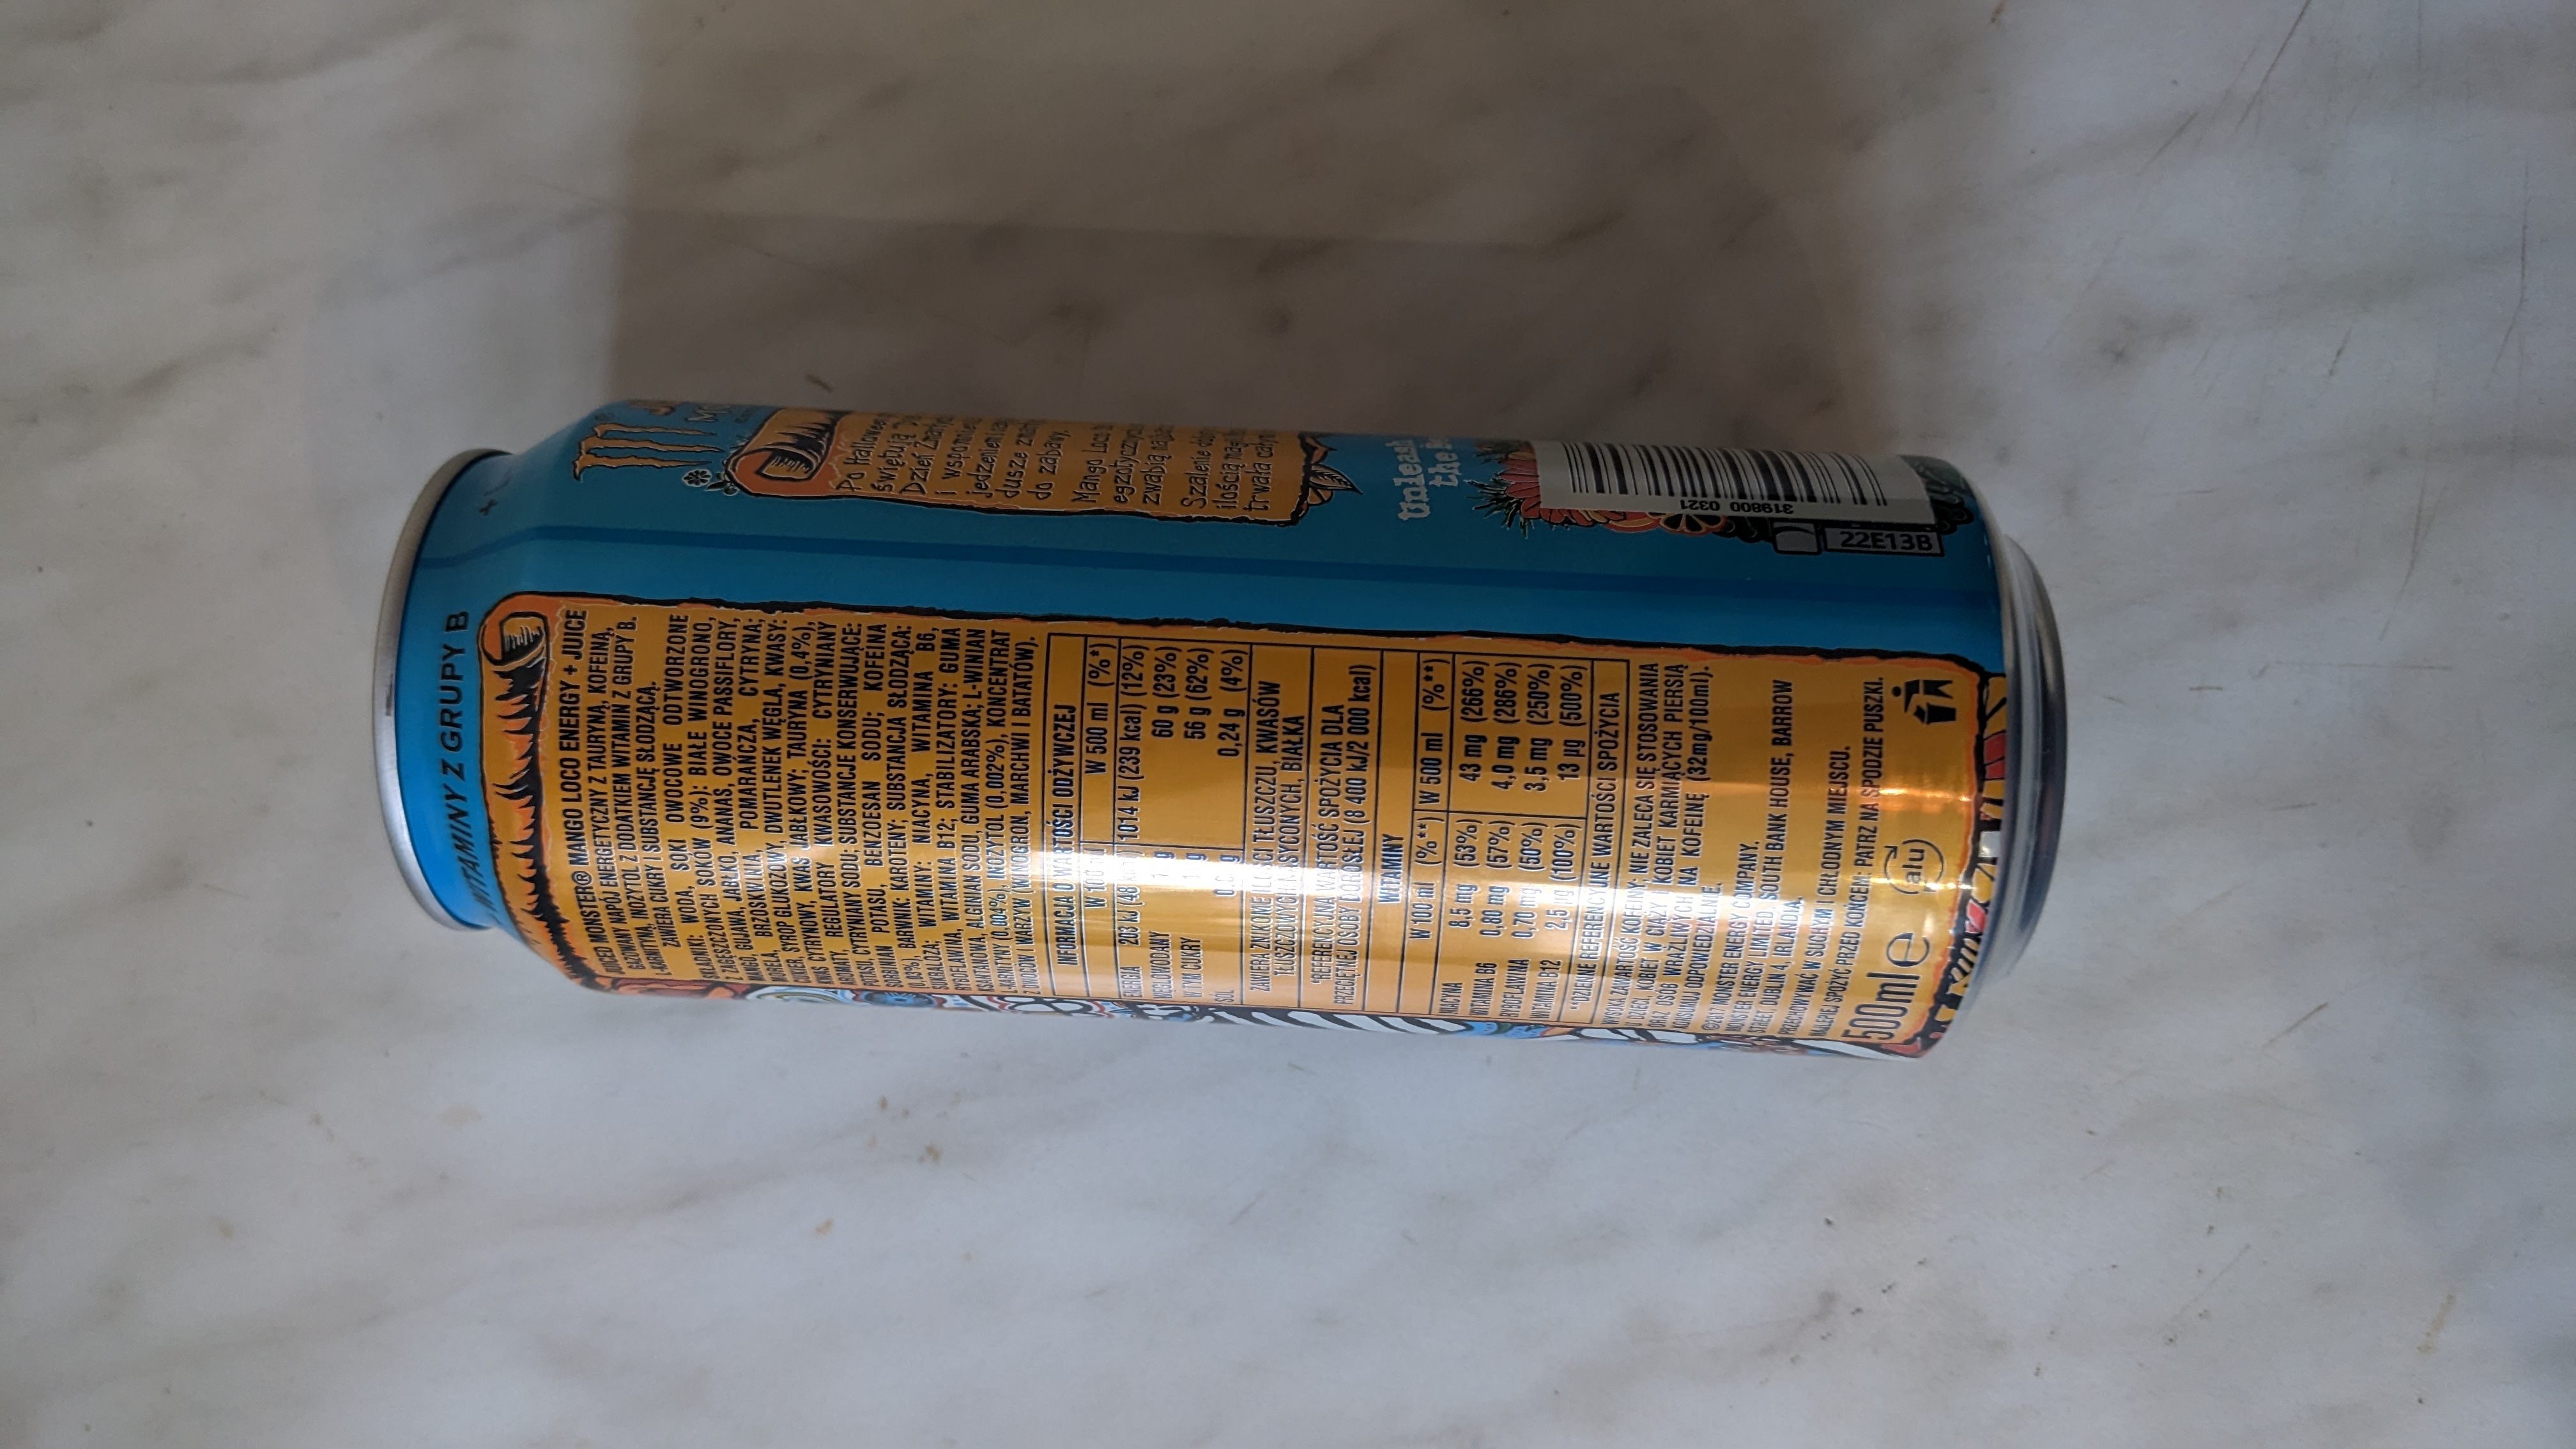monster: (304, 368, 2137, 1095)
